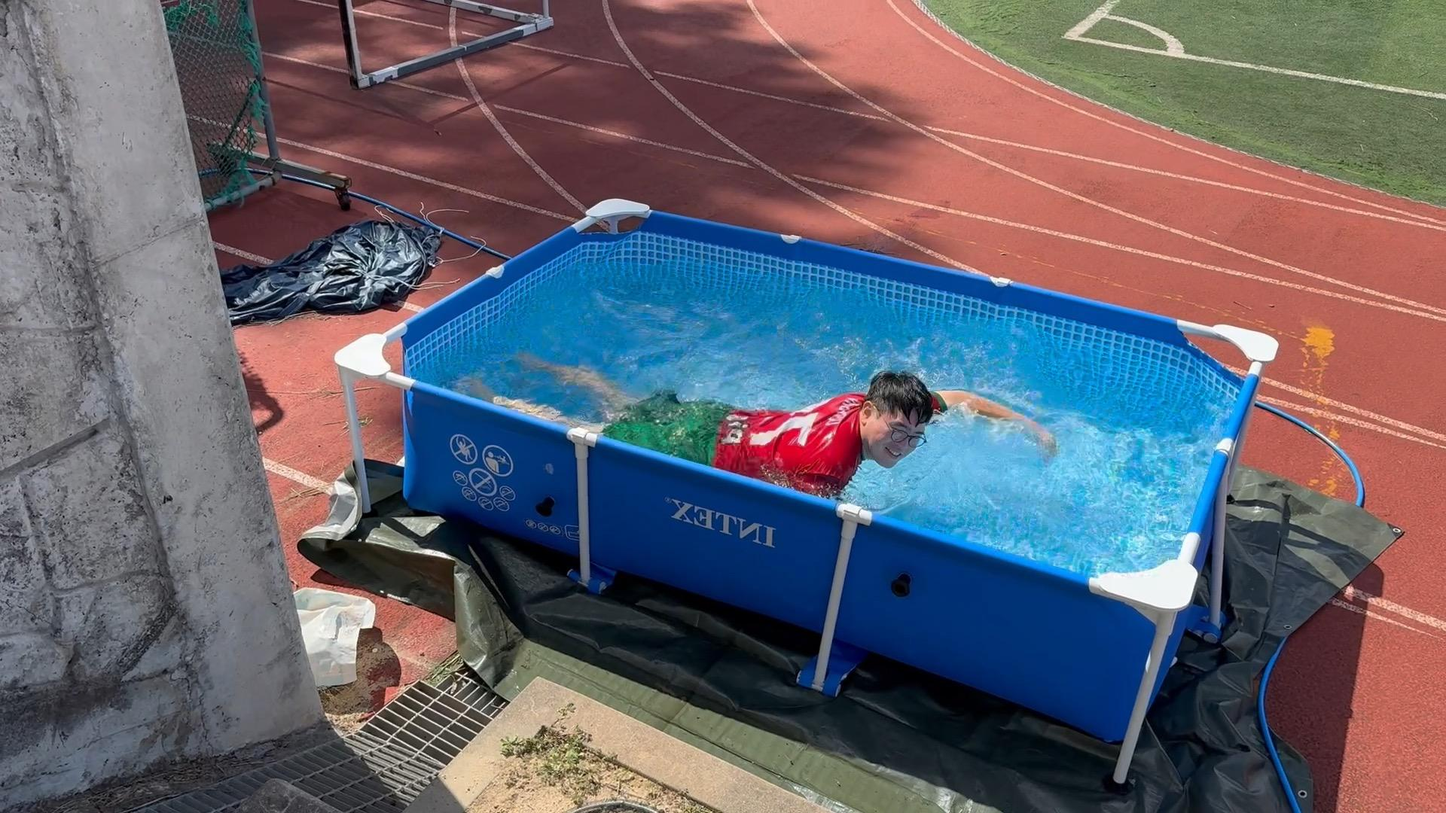Swimming: (491, 294, 1084, 535)
